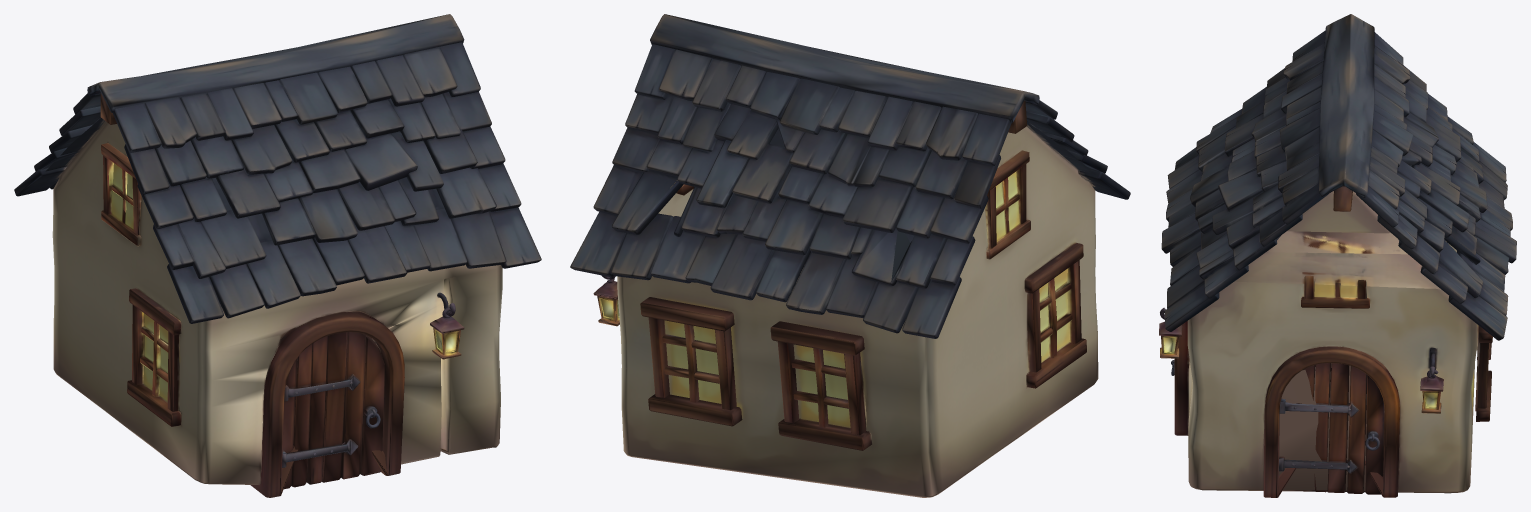
3 renders of one model, left to right at view 1: azimuth 30°, elevation 25°; view 2: azimuth 150°, elevation 25°; view 3: azimuth 270°, elevation 25°, orthographic. The views are drawn at different scales.
Visible parts, largest first — view 1: tripo_node_0aed379c; view 2: tripo_node_0aed379c; view 3: tripo_node_0aed379c.
Boxes of the visible parts, <box> form: tripo_node_0aed379c: <box>14,14,541,497</box>; tripo_node_0aed379c: <box>570,14,1130,497</box>; tripo_node_0aed379c: <box>1159,14,1516,497</box>.
Bounding box in the file's own units: 0.9995 × 0.9917 × 0.9419.
Materials: 1 (1 with a texture image).
